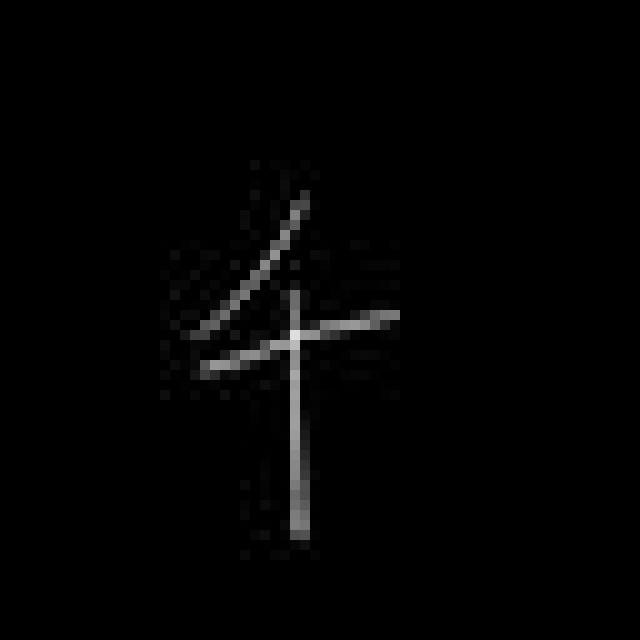1000 -a thousand-: (174, 186, 413, 552)
